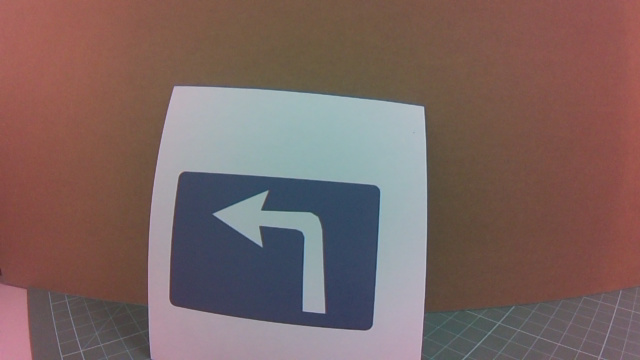left: (172, 159, 391, 330)
